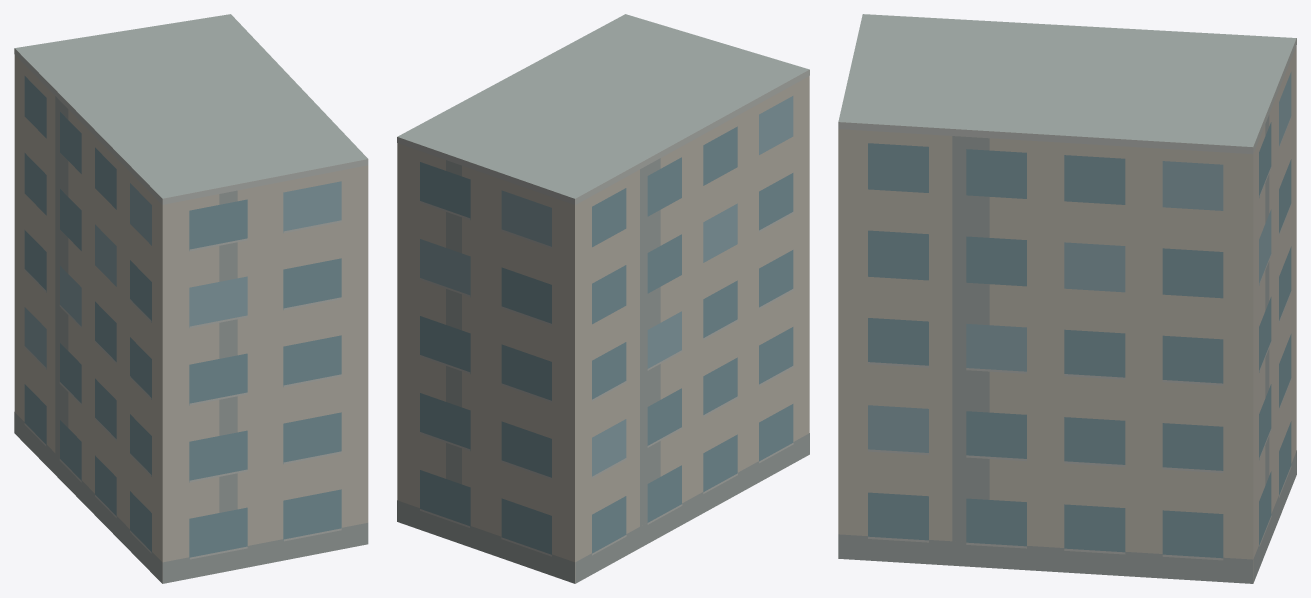
File: survey-upis-32911822.glb
3 views of the same model, side by side, from view 1: azimuth 30°, elevation 25°; view 2: azimuth 150°, elevation 25°; view 3: azimuth 270°, elevation 25° (orthographic). The views are drawn at different scales.
Parts seen in each view (by area): view 1: survey-upis-32911822.tmp; view 2: survey-upis-32911822.tmp; view 3: survey-upis-32911822.tmp.
Part boxes in pixels (box(x1,y1,x2,y2)): survey-upis-32911822.tmp: box(14, 14, 368, 583); survey-upis-32911822.tmp: box(397, 14, 809, 583); survey-upis-32911822.tmp: box(838, 14, 1296, 583).
Bounding box in the file's own units: 9.85 × 15.05 × 14.33.
